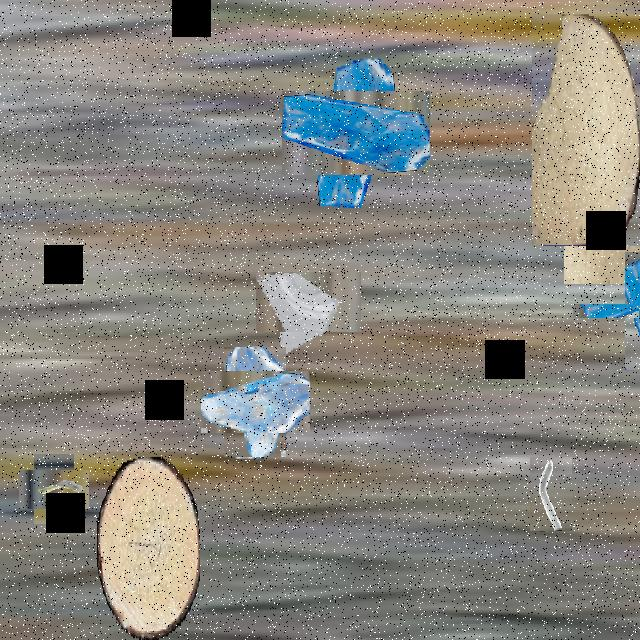glass: (298, 75, 414, 192), (564, 138, 640, 284), (212, 359, 298, 445), (266, 260, 350, 344), (599, 277, 640, 344)
metal: (530, 457, 572, 531), (27, 461, 82, 517)
wood: (532, 14, 640, 246), (97, 457, 199, 638)
